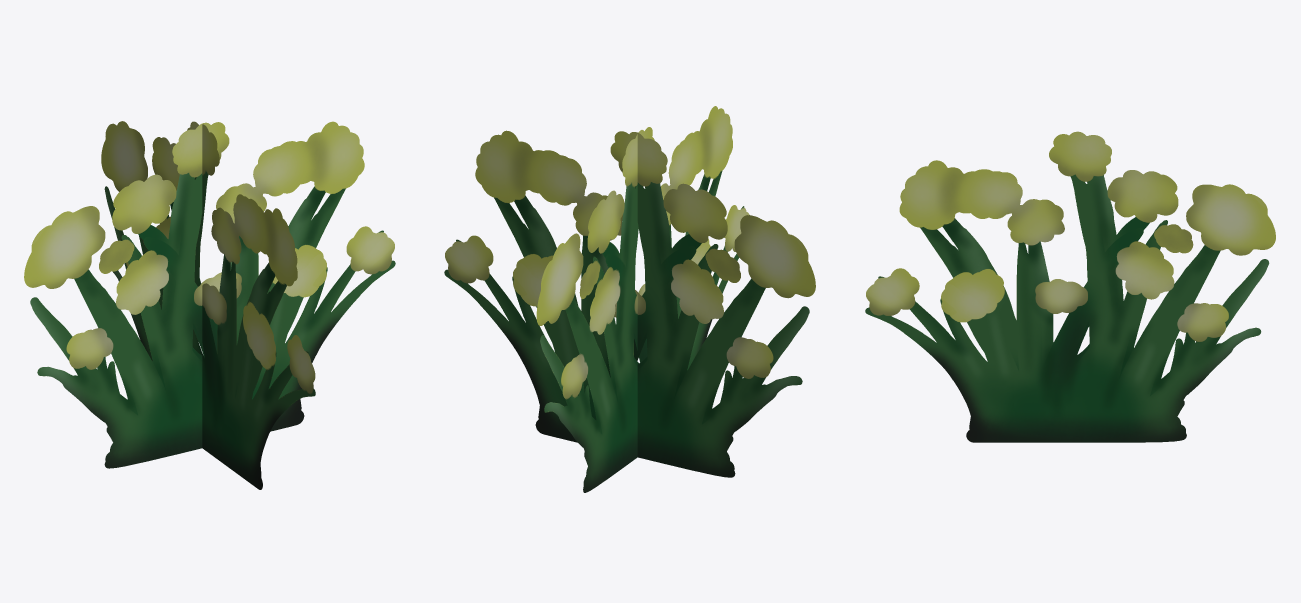
Rendered from Flower.fbx.
3 views of the same model, side by side, from view 1: azimuth 30°, elevation 25°; view 2: azimuth 150°, elevation 25°; view 3: azimuth 270°, elevation 25° (orthographic). The views are drawn at different scales.
Visible parts, largest first — view 1: pPlane1, pPlane2; view 2: pPlane1, pPlane2; view 3: pPlane2.
Boxes of the visible parts, x1,y1,x2,y2 form: pPlane1: [24, 121, 395, 468]; pPlane2: [101, 121, 315, 489]; pPlane1: [444, 130, 815, 477]; pPlane2: [536, 106, 749, 492]; pPlane2: [865, 131, 1275, 442].
Bounding box in the file's own units: 18.82 × 18.82 × 18.82.
1 material, 1 textured.
